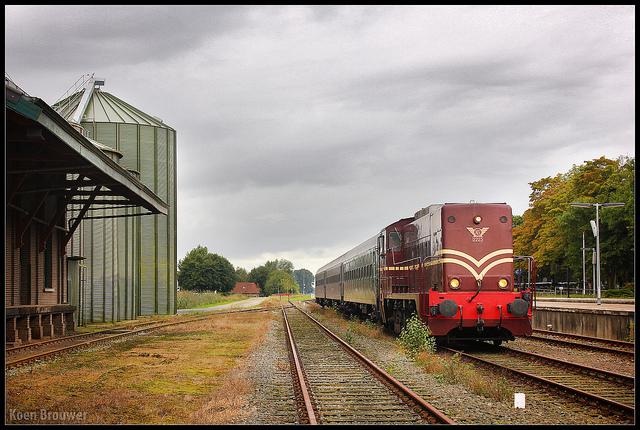Train: (315, 203, 538, 346)
